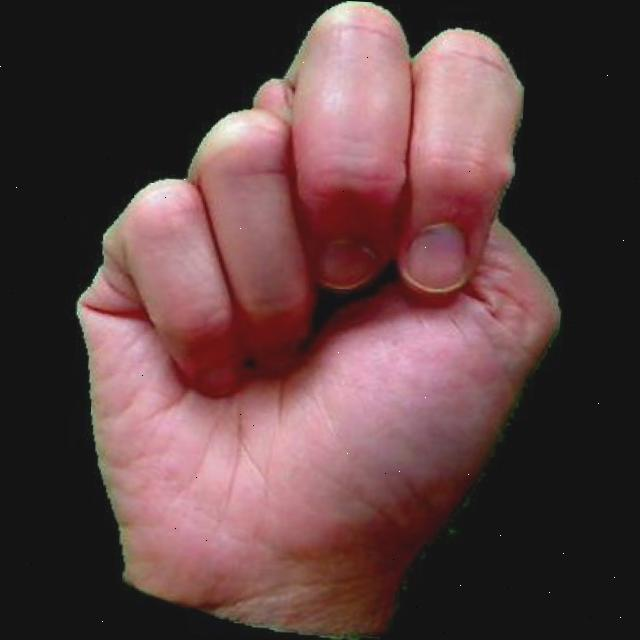n: (46, 0, 578, 640)
